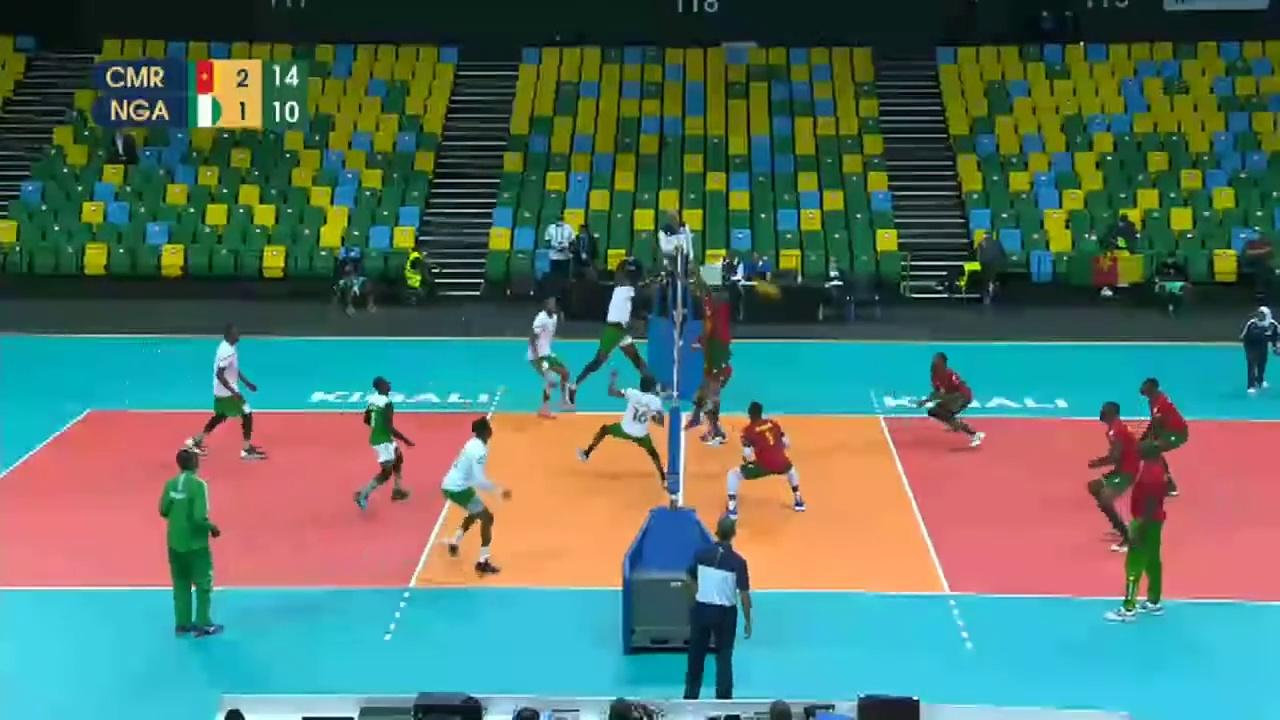player: (569, 256, 654, 395), (431, 421, 505, 571), (189, 327, 272, 456), (883, 353, 983, 449), (580, 364, 661, 481), (731, 404, 812, 510), (1137, 364, 1198, 494), (1086, 404, 1140, 550), (352, 380, 414, 507), (690, 286, 733, 447), (528, 297, 574, 410)
refree: (684, 511, 750, 698), (659, 204, 695, 303), (1241, 303, 1277, 394)
